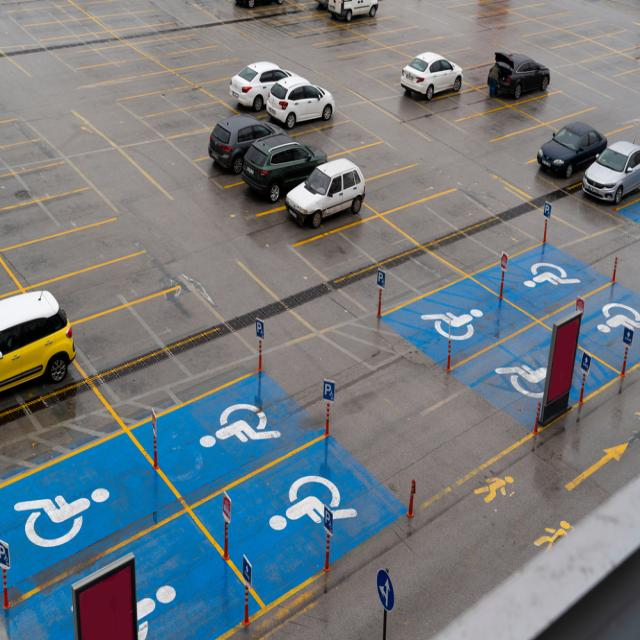discapacitados: (8, 406, 369, 637), (370, 274, 640, 392), (131, 405, 301, 451)
libre: (3, 1, 108, 280), (82, 281, 244, 384), (104, 1, 222, 124), (485, 0, 634, 49), (300, 237, 458, 278), (453, 96, 538, 145), (323, 123, 400, 170), (323, 29, 408, 69), (285, 0, 318, 34)
ocupado: (213, 114, 364, 218), (3, 290, 83, 406), (546, 120, 640, 201), (227, 66, 335, 116), (484, 44, 552, 94), (409, 50, 466, 99), (320, 0, 381, 20), (234, 0, 288, 19)
